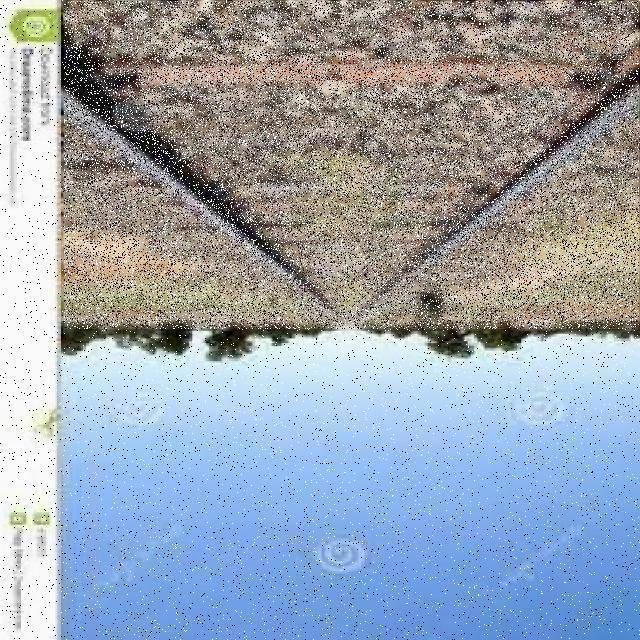rail: (66, 2, 640, 330)
